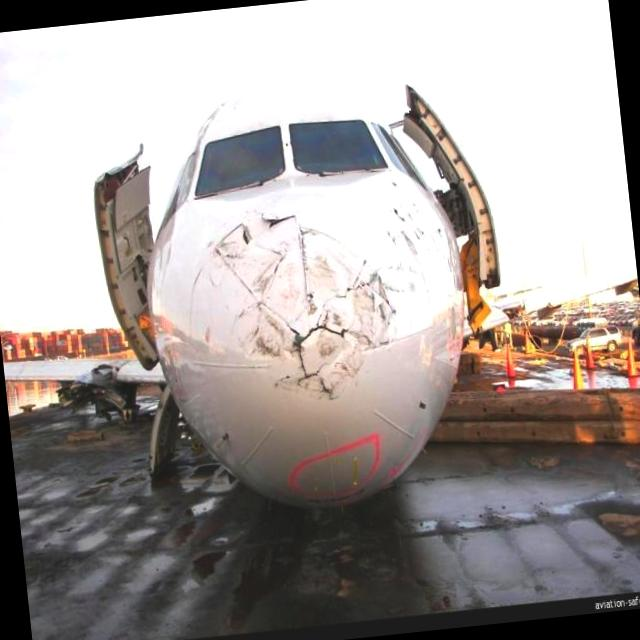crack: (184, 198, 412, 426)
